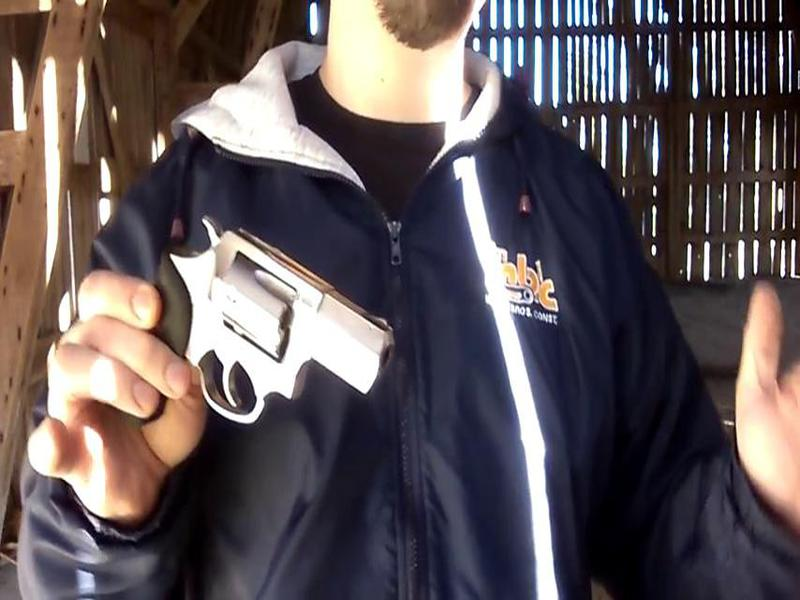Revolver: (107, 192, 410, 457)
